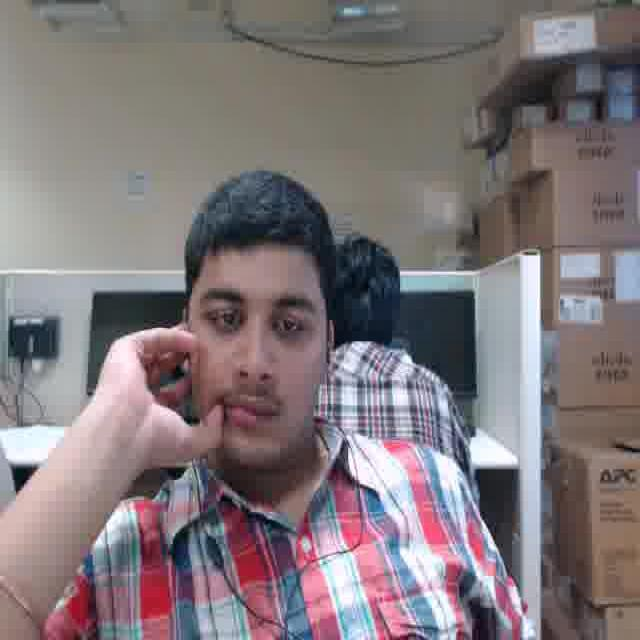Boredom: (183, 229, 320, 460)
